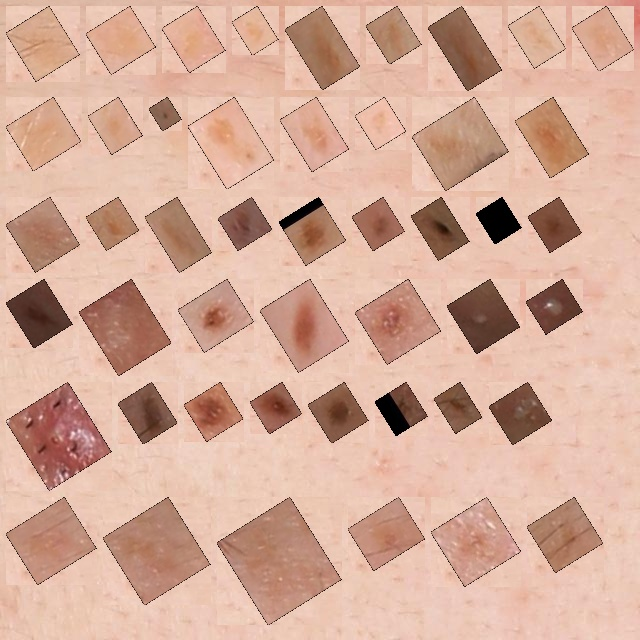hypertrophic_scar: (90, 290, 160, 364)
melasma: (228, 508, 330, 614), (114, 508, 199, 594), (423, 108, 498, 179), (442, 508, 510, 575), (199, 108, 263, 178), (17, 508, 85, 573), (296, 17, 349, 79), (439, 17, 491, 80), (526, 108, 578, 167), (538, 508, 592, 561), (359, 508, 414, 559), (17, 108, 70, 160), (17, 208, 69, 261), (17, 17, 68, 70), (291, 108, 338, 160), (156, 208, 201, 261), (97, 17, 145, 63), (173, 17, 214, 61), (583, 17, 623, 60), (519, 17, 555, 57), (377, 17, 410, 53), (99, 108, 131, 143), (97, 208, 128, 239), (366, 108, 395, 138), (243, 17, 267, 44)
nevus: (271, 290, 338, 361), (366, 290, 430, 353), (189, 290, 243, 341), (290, 208, 335, 254), (17, 290, 61, 337), (319, 393, 357, 432), (129, 393, 166, 433), (422, 208, 458, 249), (195, 393, 232, 430), (539, 208, 571, 241), (229, 208, 261, 239), (363, 208, 394, 240), (386, 393, 417, 425), (261, 393, 291, 422), (445, 393, 471, 422), (487, 208, 510, 233)
pustule: (17, 393, 100, 479), (458, 290, 509, 342), (500, 393, 541, 434), (537, 290, 572, 323)
